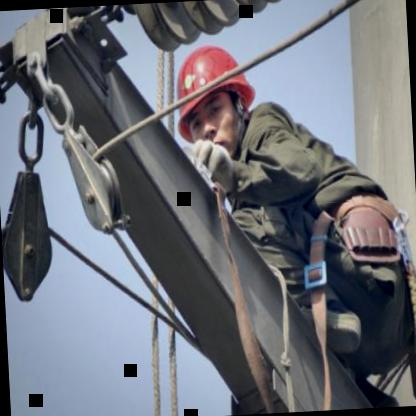helmet: (168, 32, 262, 164)
